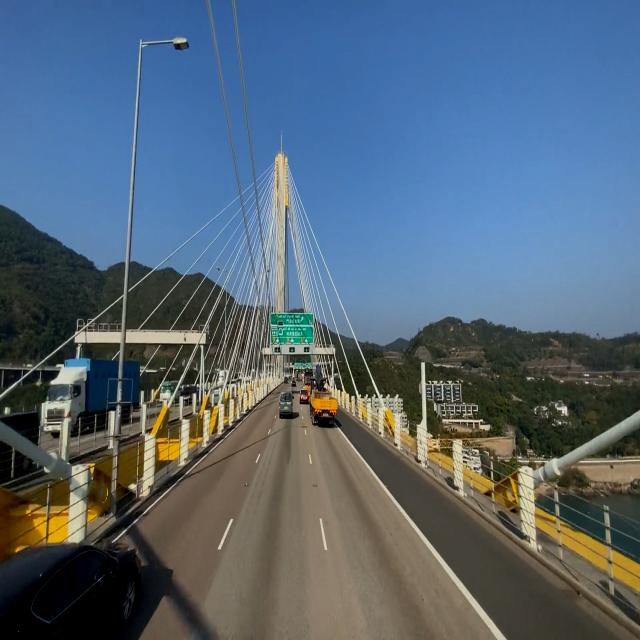Vehicle: (0, 530, 145, 639), (308, 362, 339, 430), (276, 387, 296, 420)
